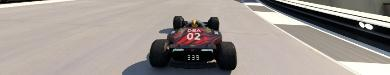Car: (148, 15, 237, 69)
Solid White and black: (232, 0, 389, 74)
